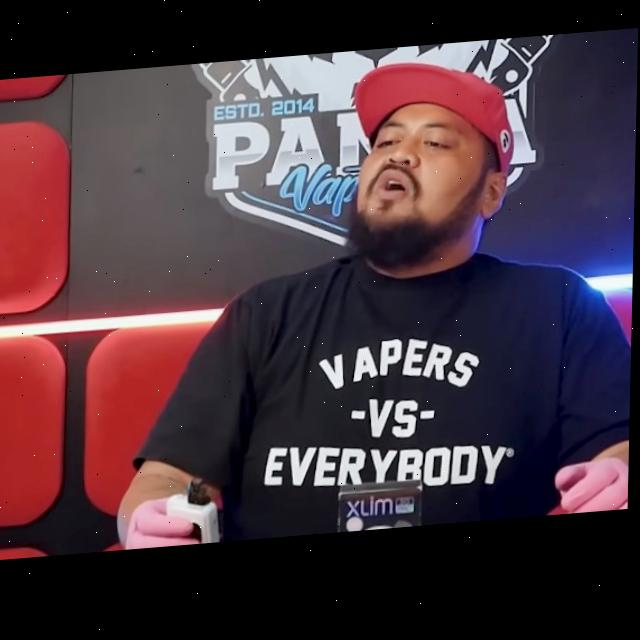vape: (168, 481, 224, 549)
